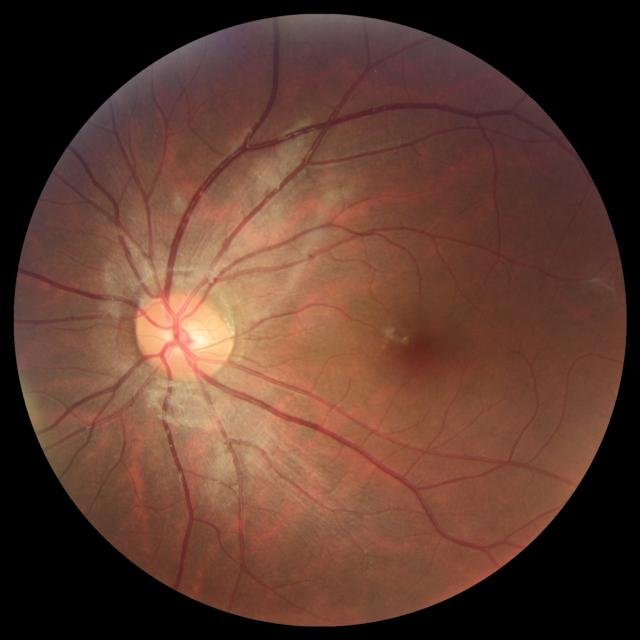OC: (168, 315, 204, 354)
OD: (134, 294, 230, 379)
